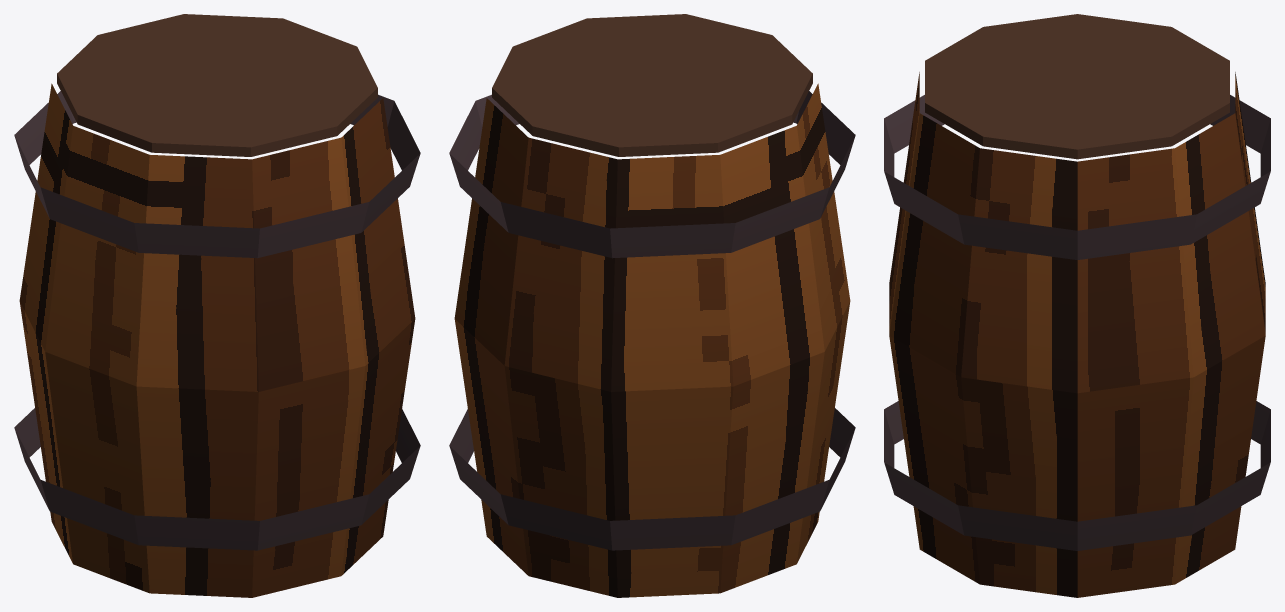
File: barrel.glb
3 renders of one model, left to right at view 1: azimuth 30°, elevation 25°; view 2: azimuth 150°, elevation 25°; view 3: azimuth 270°, elevation 25°, orthographic.
Parts seen in each view (by area): view 1: barrel; view 2: barrel; view 3: barrel.
Boxes of the visible parts, left/top/right/bottom form: barrel: left=14, top=14, right=420, bottom=597; barrel: left=449, top=14, right=855, bottom=597; barrel: left=884, top=14, right=1270, bottom=597.
Size of the model in its own units: 0.76 by 0.92 by 0.7228.
2 materials, 1 textured.
